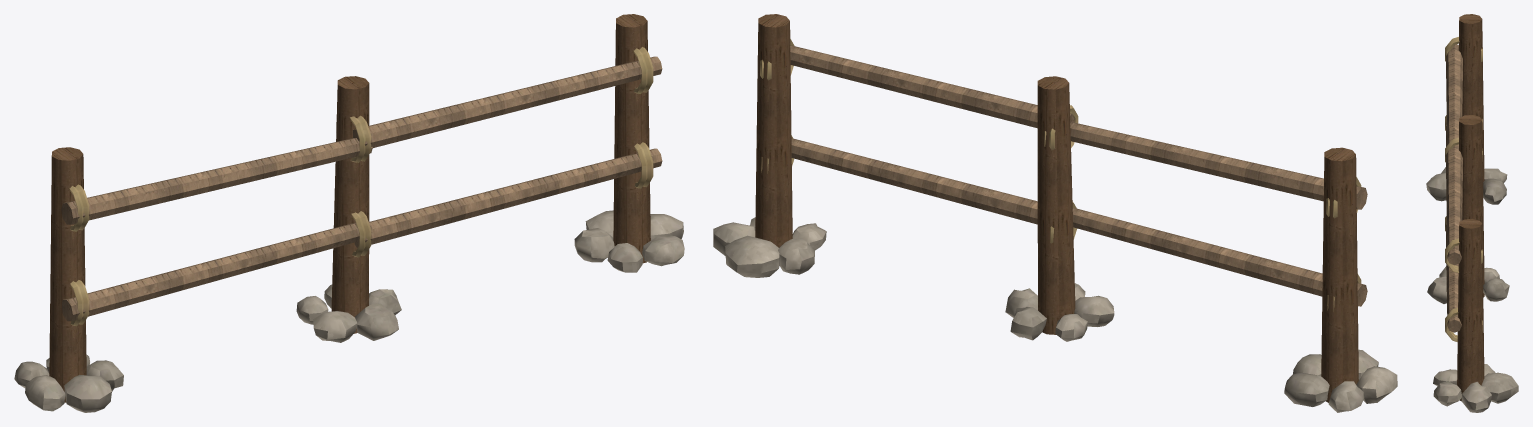
File: country_fence.glb
3 views of the same model, side by side, from view 1: azimuth 30°, elevation 25°; view 2: azimuth 150°, elevation 25°; view 3: azimuth 270°, elevation 25° (orthographic). The views are drawn at different scales.
Parts seen in each view (by area): view 1: wood, wood_dark, rock.015, rope; view 2: wood_dark, wood, rock.015, rope; view 3: wood_dark, rock.015, wood, rope.
Part boxes in pixels (<box>): wood: <box>61,56,662,321</box>; wood_dark: <box>49,14,650,402</box>; rock.015: <box>14,210,684,412</box>; rope: <box>69,47,653,326</box>; wood_dark: <box>755,14,1358,402</box>; wood: <box>790,45,1367,306</box>; rock.015: <box>713,217,1397,412</box>; rope: <box>760,39,1361,311</box>; wood_dark: <box>1457,14,1484,401</box>; rock.015: <box>1426,167,1518,412</box>; wood: <box>1445,44,1462,332</box>; rope: <box>1445,37,1482,341</box>.
Bounding box in the file's own units: 3.54 × 1.25 × 0.5816.
4 materials, 4 textured.
